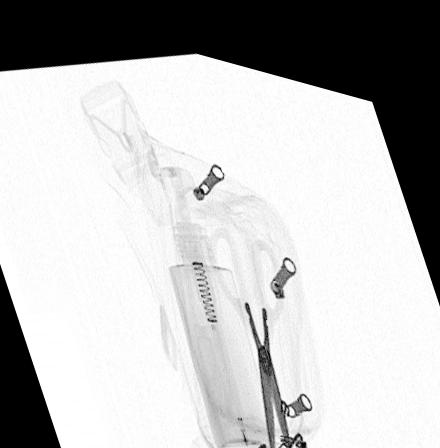Scissors: (206, 212, 294, 448)
